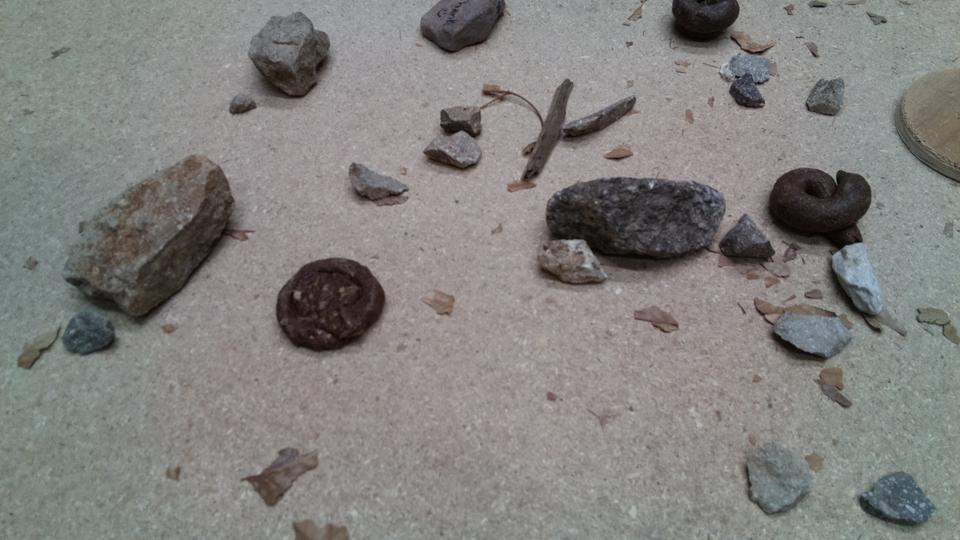poop: (274, 254, 388, 353), (766, 163, 873, 253), (668, 1, 743, 43)
